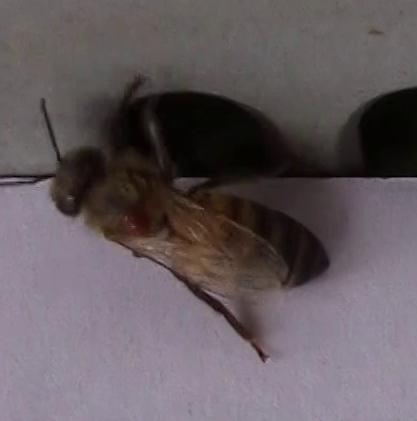Varroa destructor: (120, 203, 157, 243)
